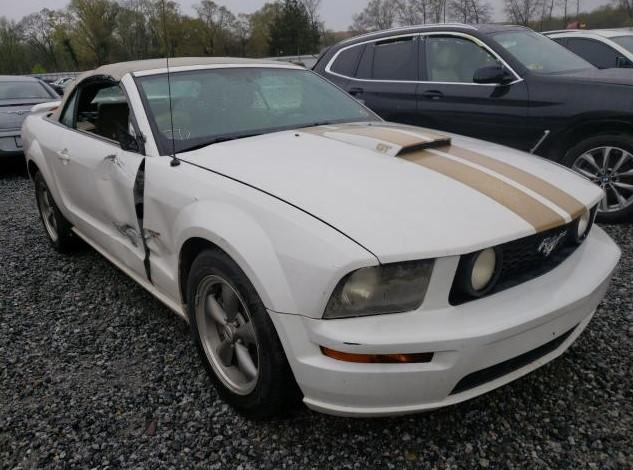Back-wheel: (34, 172, 78, 253)
Back-window: (61, 91, 76, 128)
Fender: (143, 156, 379, 319)
Front-bumper: (266, 225, 621, 417)
Front-door: (51, 130, 152, 285)
Front-wheel: (187, 250, 297, 420)
Grille: (483, 217, 584, 297)
Headlight: (322, 259, 433, 318), (472, 248, 495, 290), (578, 211, 590, 236)
Hood: (171, 122, 605, 264)
Quarter-panel: (21, 114, 74, 223)
Rocker-panel: (71, 226, 188, 321)
Roof: (84, 57, 307, 82)
Trunk: (31, 102, 62, 117)
Windshield: (133, 67, 382, 155)
